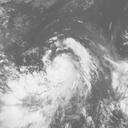cyclone: (40, 37, 96, 103)
